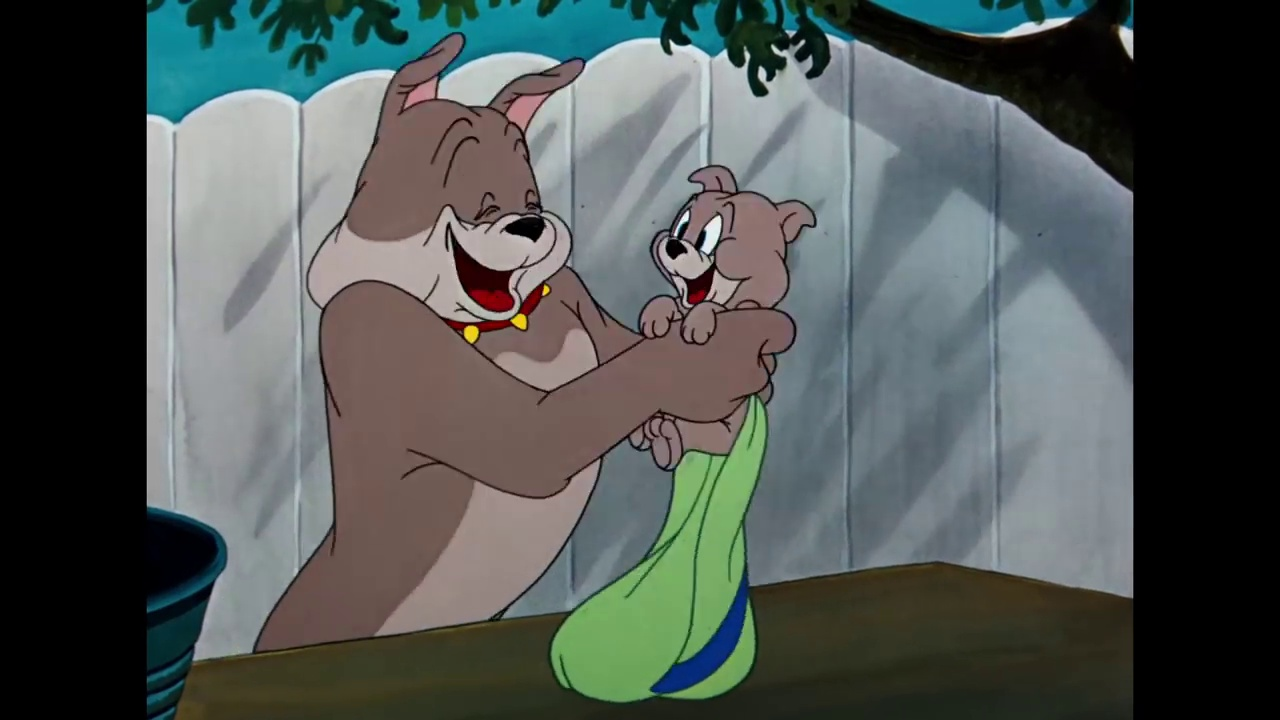spike: (307, 31, 585, 343)
